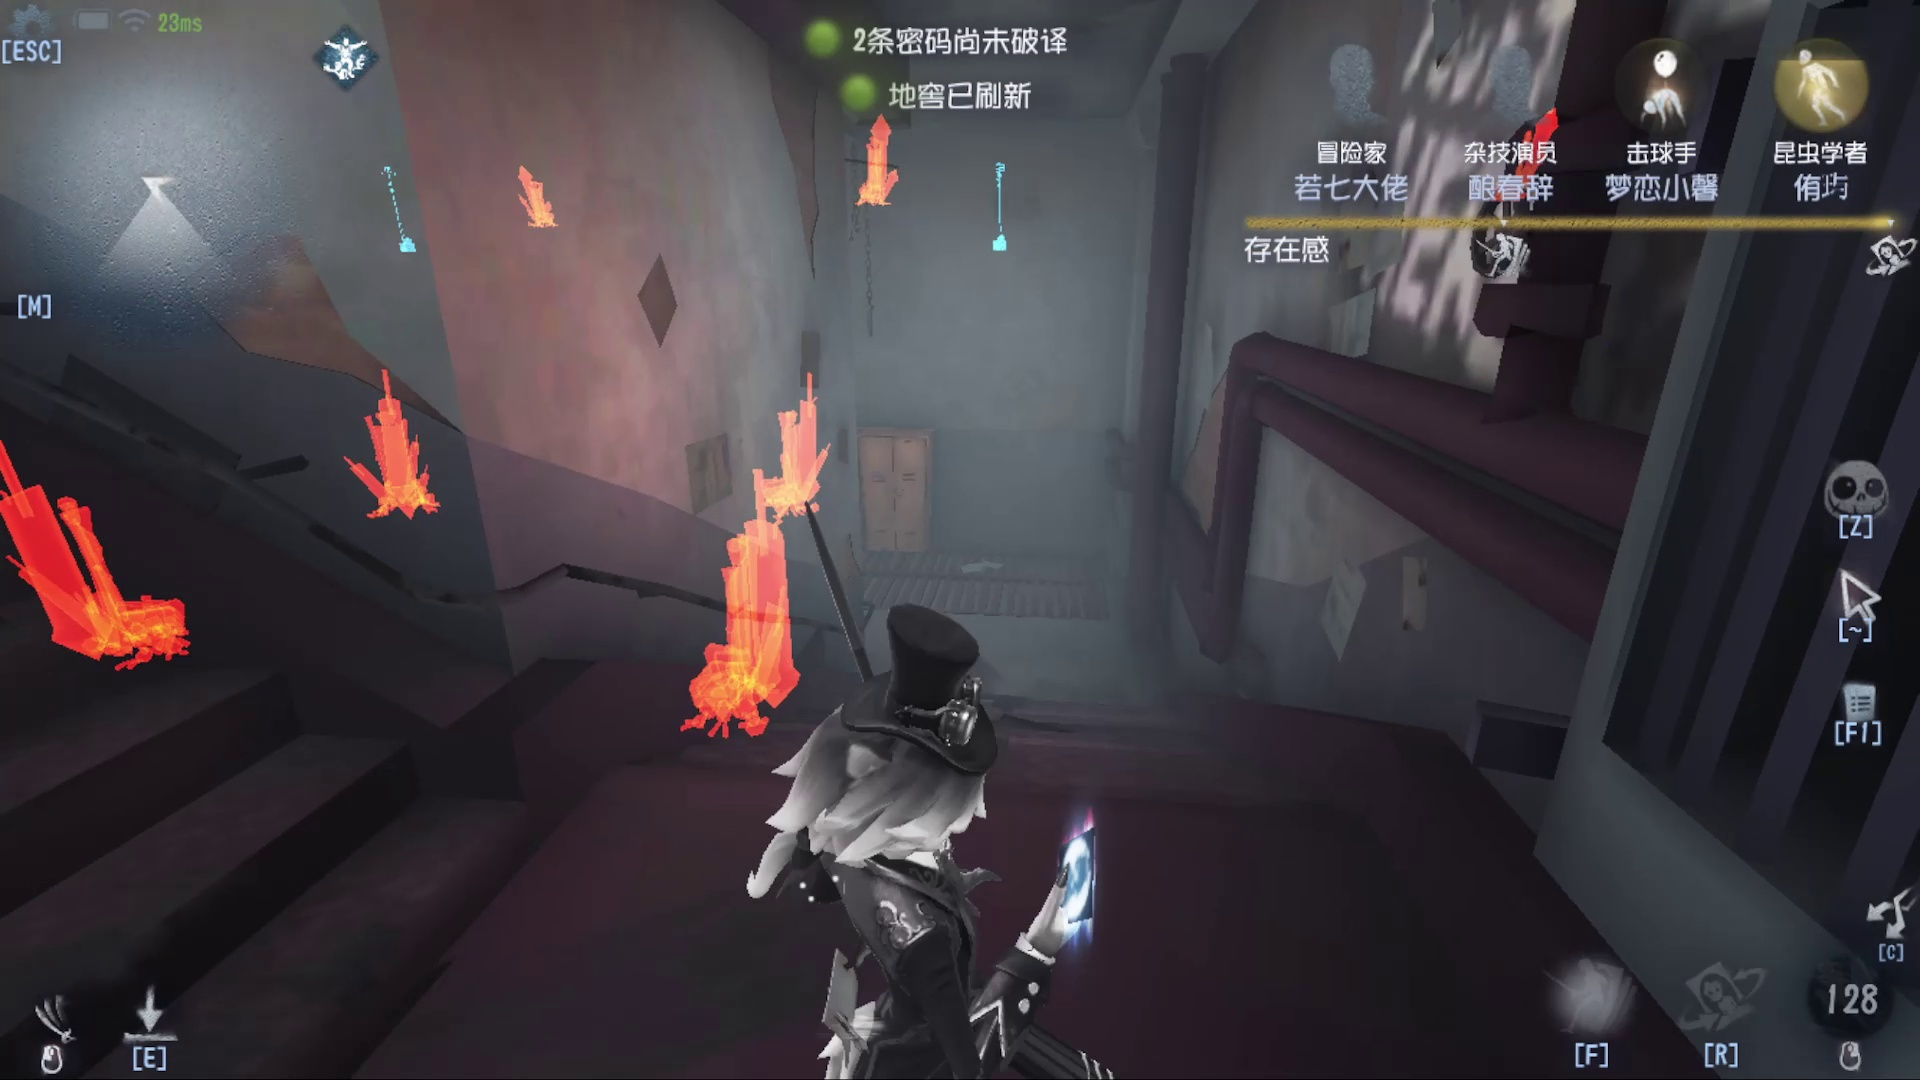密码机: (351, 153, 458, 262)
狂欢之椅: (655, 495, 818, 732), (339, 371, 458, 525), (723, 392, 851, 522), (520, 154, 597, 251)
